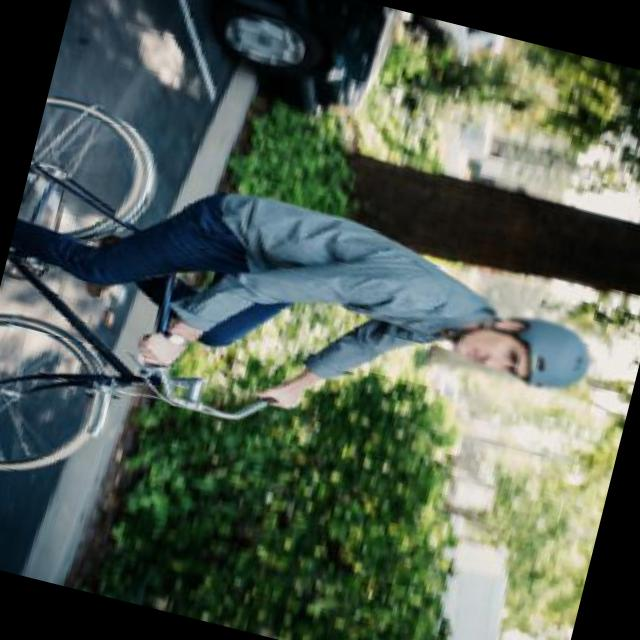With Helmet: (437, 286, 605, 408)
